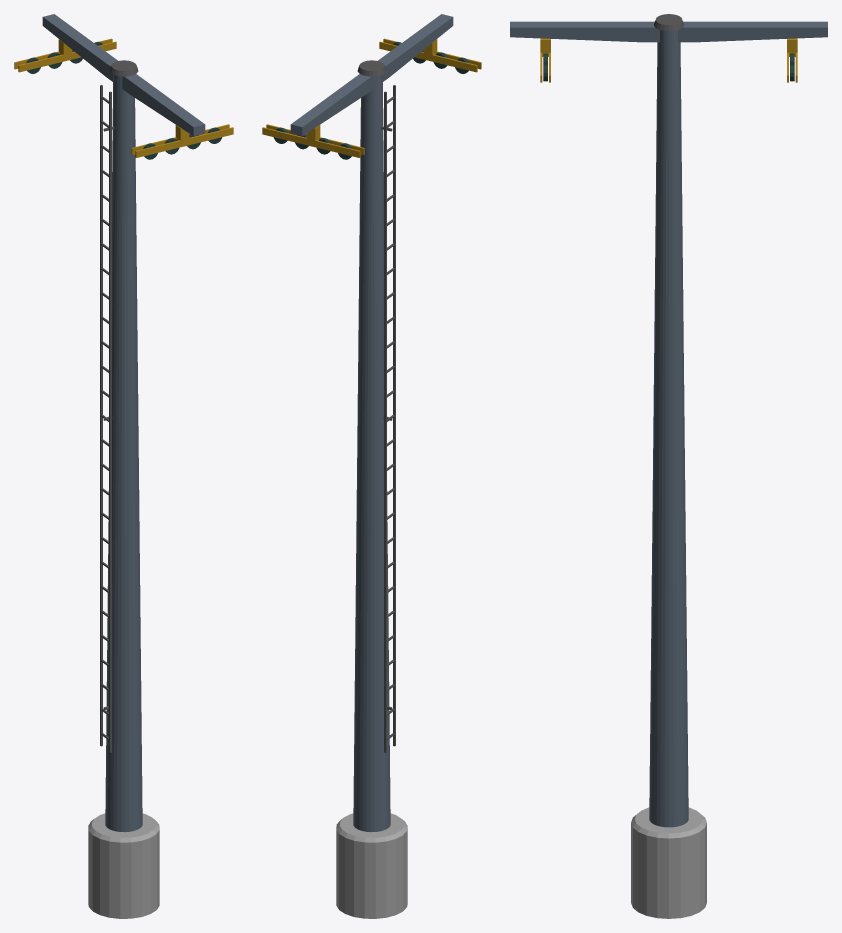
The model's file is tower_wide.obj.
3 renders of one model, left to right at view 1: azimuth 30°, elevation 25°; view 2: azimuth 150°, elevation 25°; view 3: azimuth 270°, elevation 25°, orthographic. The views are drawn at different scales.
Size of the model in its own units: 2.5 by 20.54 by 6.7.
